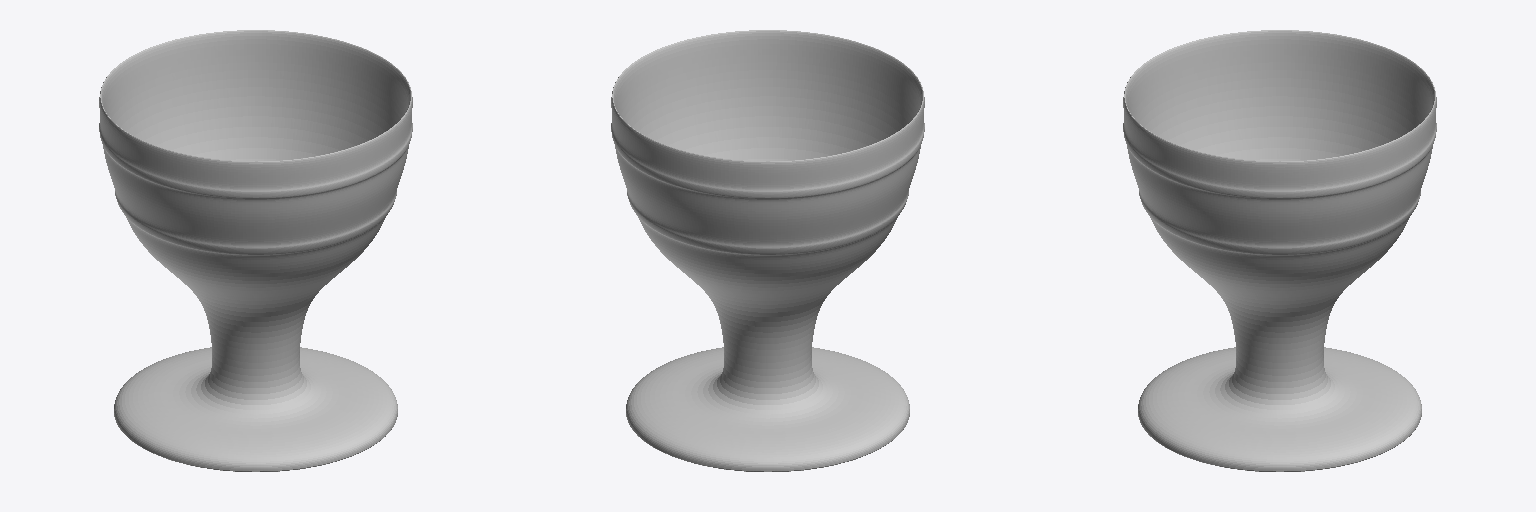
File: Eggcup.obj
3 views of the same model, side by side, from view 1: azimuth 30°, elevation 25°; view 2: azimuth 150°, elevation 25°; view 3: azimuth 270°, elevation 25° (orthographic).
Parts seen in each view (by area): view 1: Eggcup_Circle.003; view 2: Eggcup_Circle.003; view 3: Eggcup_Circle.003.
Boxes of the visible parts, <box> form: Eggcup_Circle.003: <box>99,30,412,471</box>; Eggcup_Circle.003: <box>611,30,924,471</box>; Eggcup_Circle.003: <box>1123,30,1436,471</box>.
Size of the model in its own units: 0.0898 by 0.1014 by 0.0898.